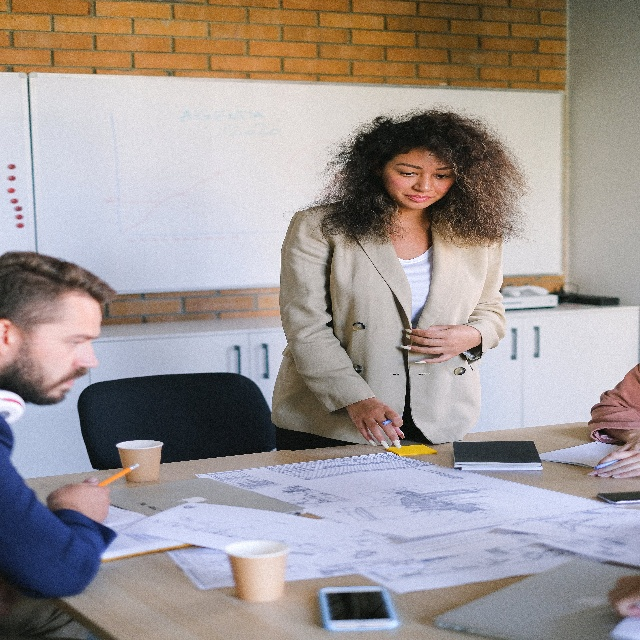Sin_guantes: (401, 323, 471, 368), (349, 400, 406, 453), (46, 477, 112, 518), (586, 449, 640, 478)
